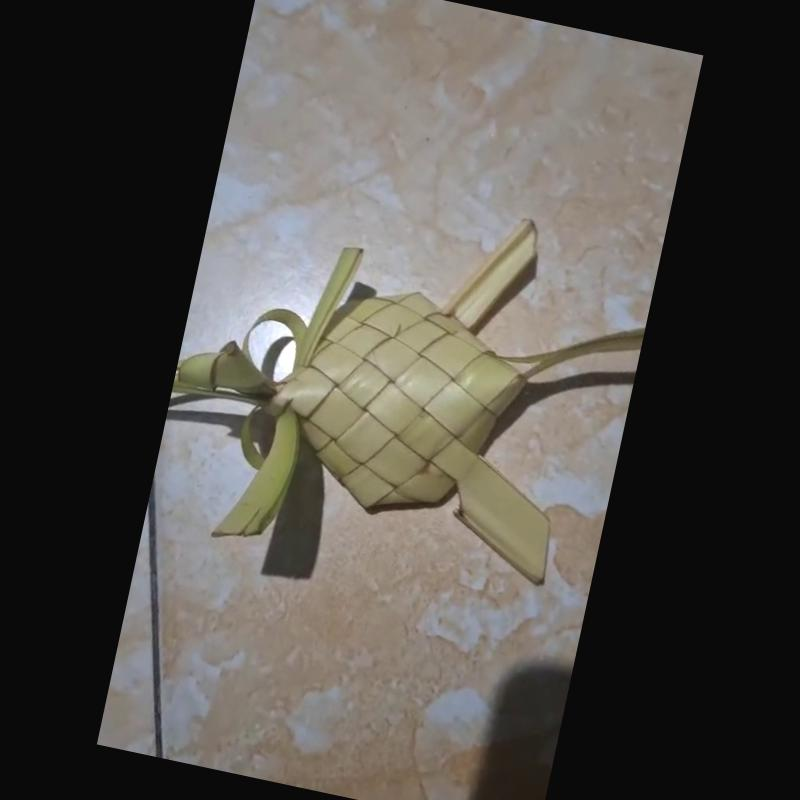Tipat Dampulan: (173, 210, 645, 583)
